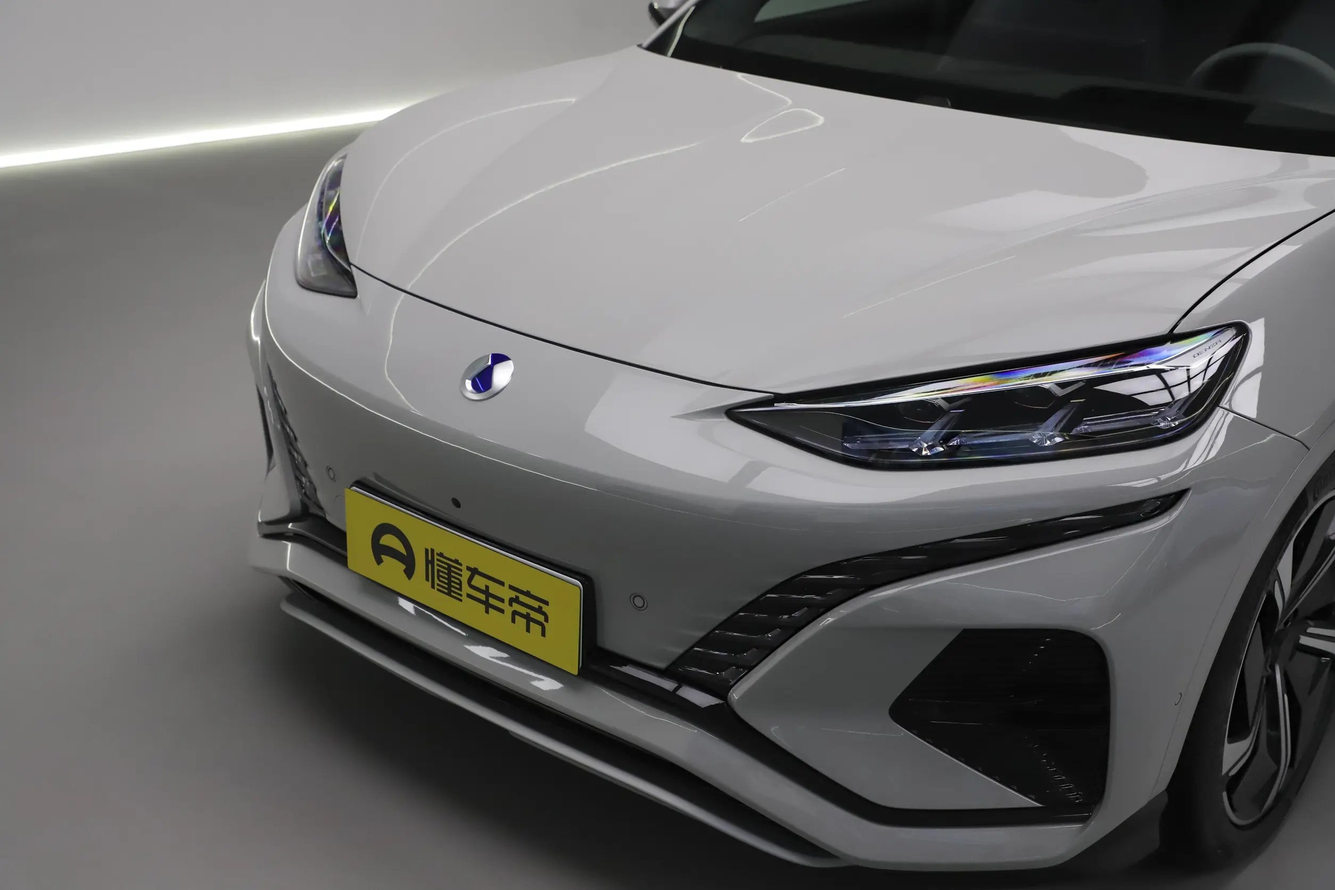DENZA: (460, 353, 513, 400)
